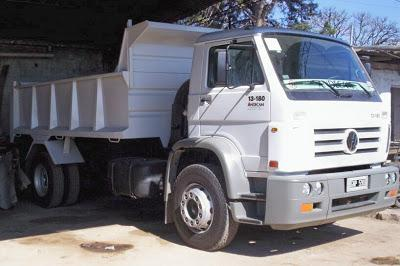truck: (9, 19, 400, 251)
